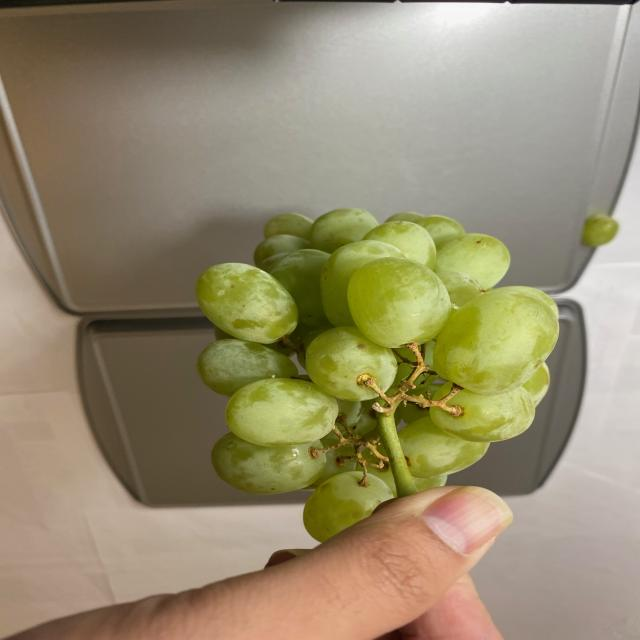grapes: (190, 201, 564, 545)
